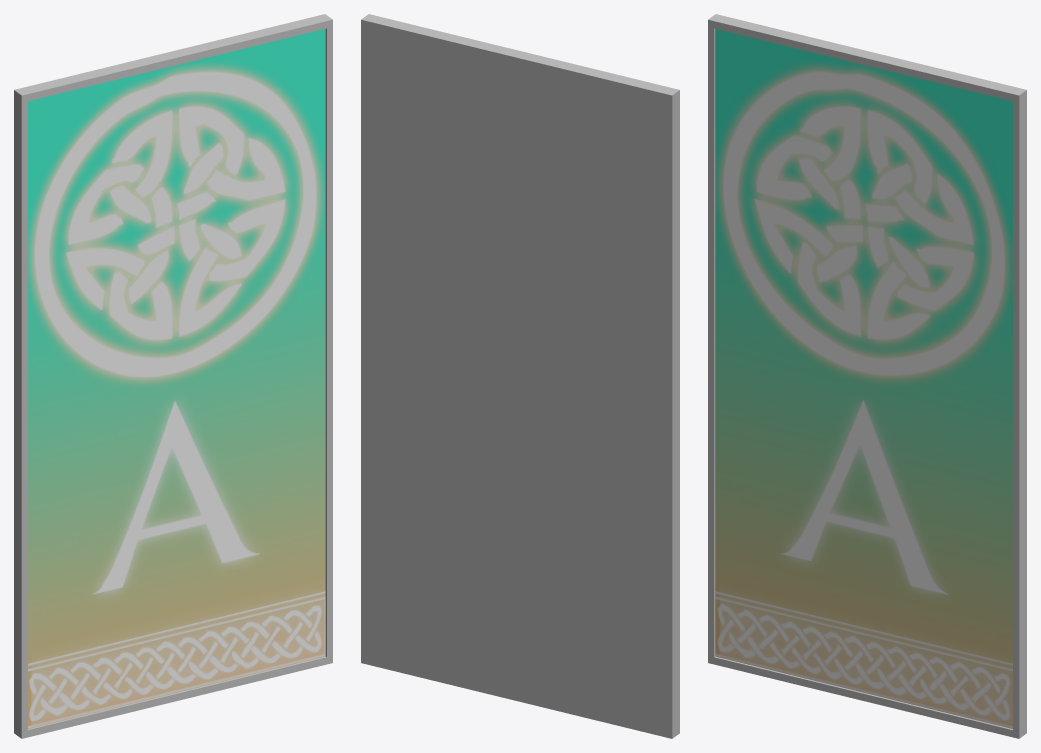
File: screen_4.fbx
The picture shows the model from 3 angles, left to right: view 1: azimuth 30°, elevation 25°; view 2: azimuth 150°, elevation 25°; view 3: azimuth 330°, elevation 25°; orthographic projection.
Parts seen in each view (by area): view 1: screen_4; view 2: screen_4; view 3: screen_4.
Part boxes in pixels (x1=…): screen_4: x1=14, y1=14, x2=332, y2=738; screen_4: x1=361, y1=14, x2=679, y2=738; screen_4: x1=708, y1=14, x2=1026, y2=738.
Bounding box in the file's own units: 1.03 × 2.03 × 0.0445.
